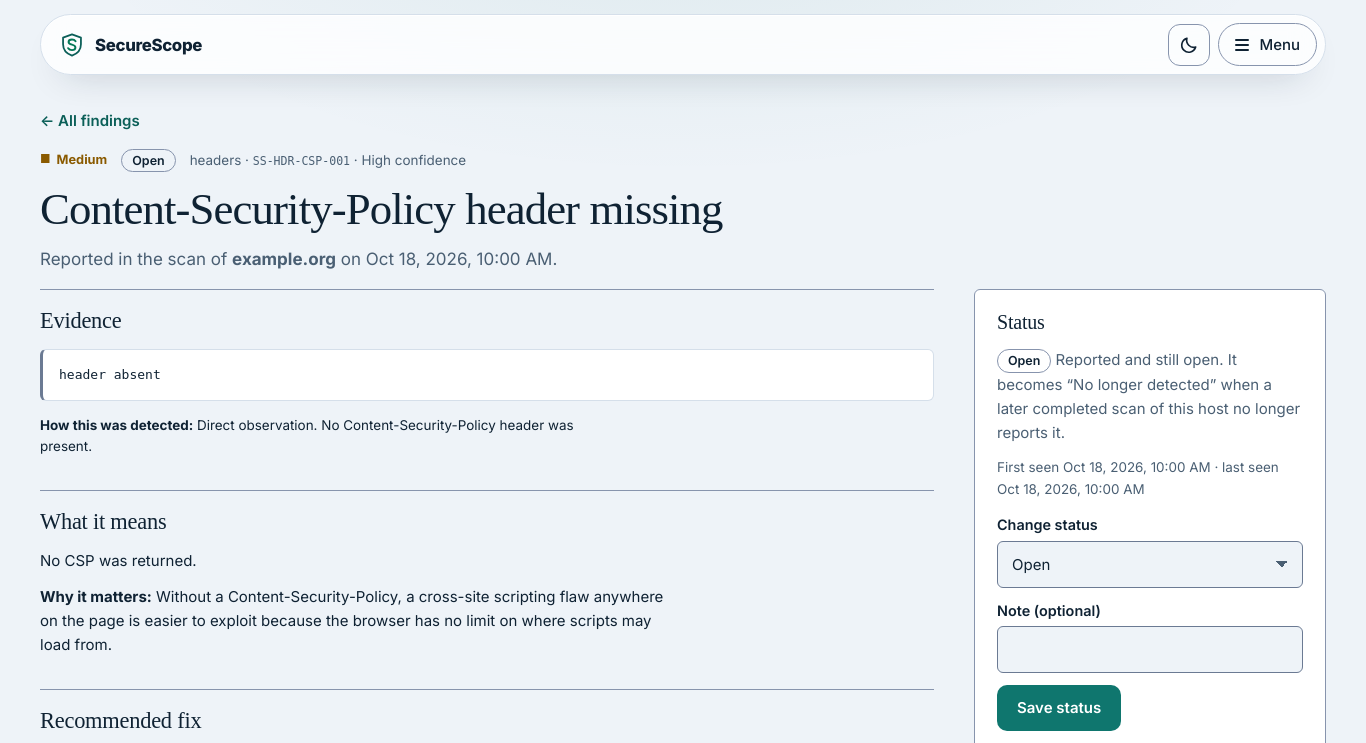
Scenario: Finding status › lets an analyst change the status and reloads the scan
The width and height of the screenshot is (1366, 743).
Select "Accepted risk" in the dropdown labelled "Change status" at {"x": 1150, "y": 564}, box [997,540,1303,588]
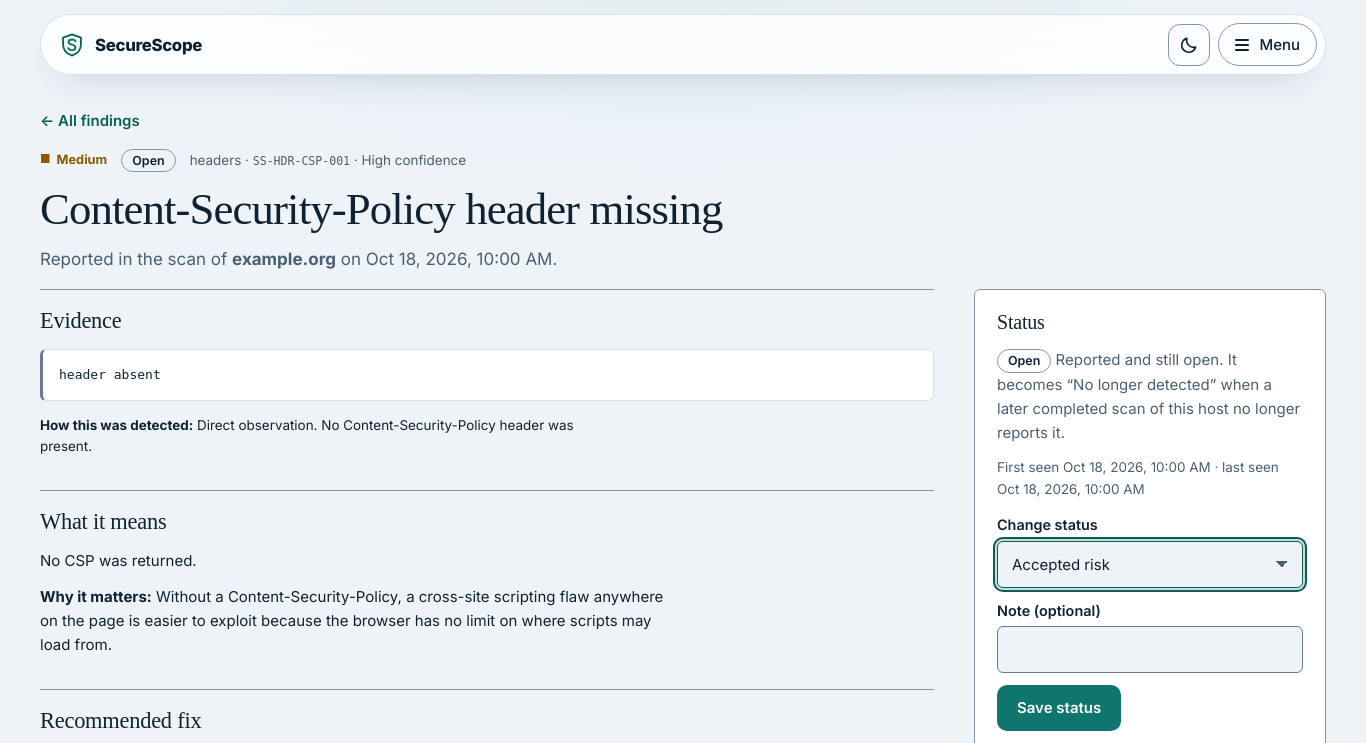
Type "static site" into the field labelled "Note (optional)" at {"x": 1150, "y": 650}, box [997,626,1303,673]
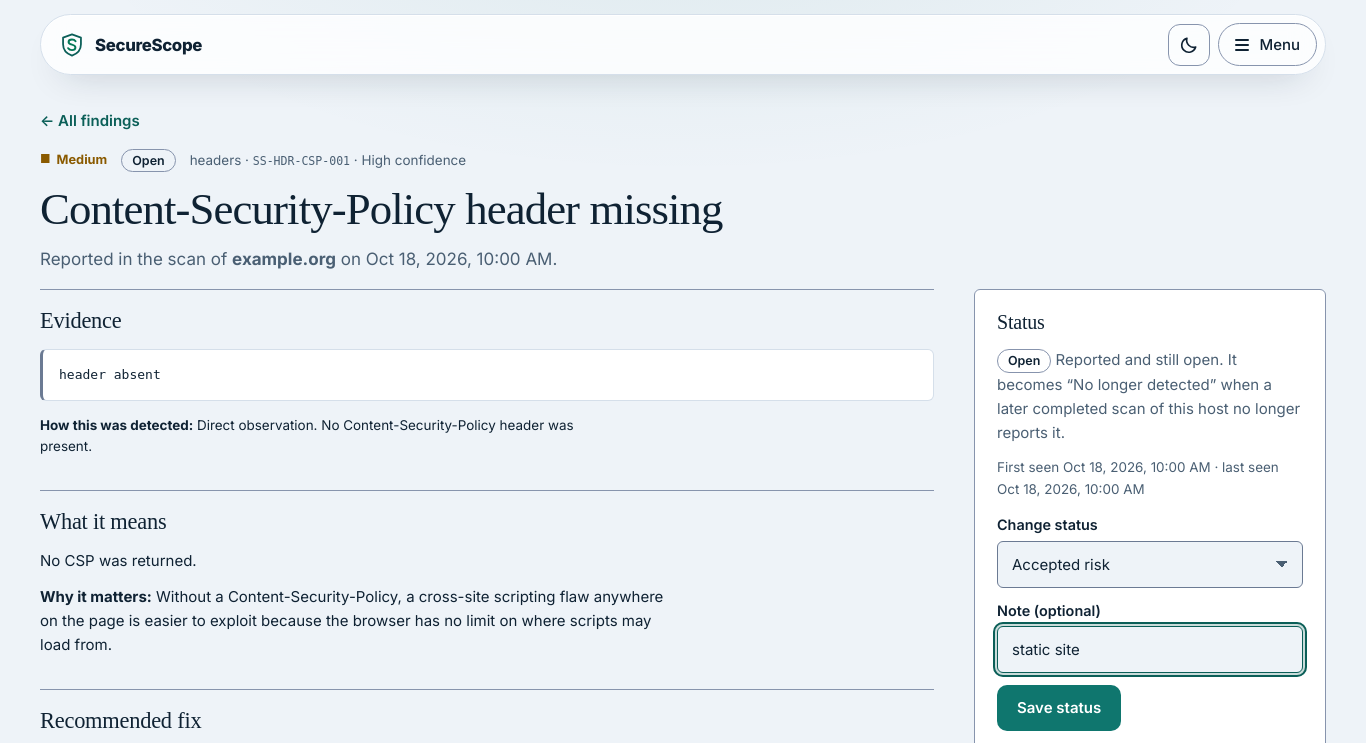
Click the button "Save status" at {"x": 1059, "y": 708}, box [997,685,1121,731]
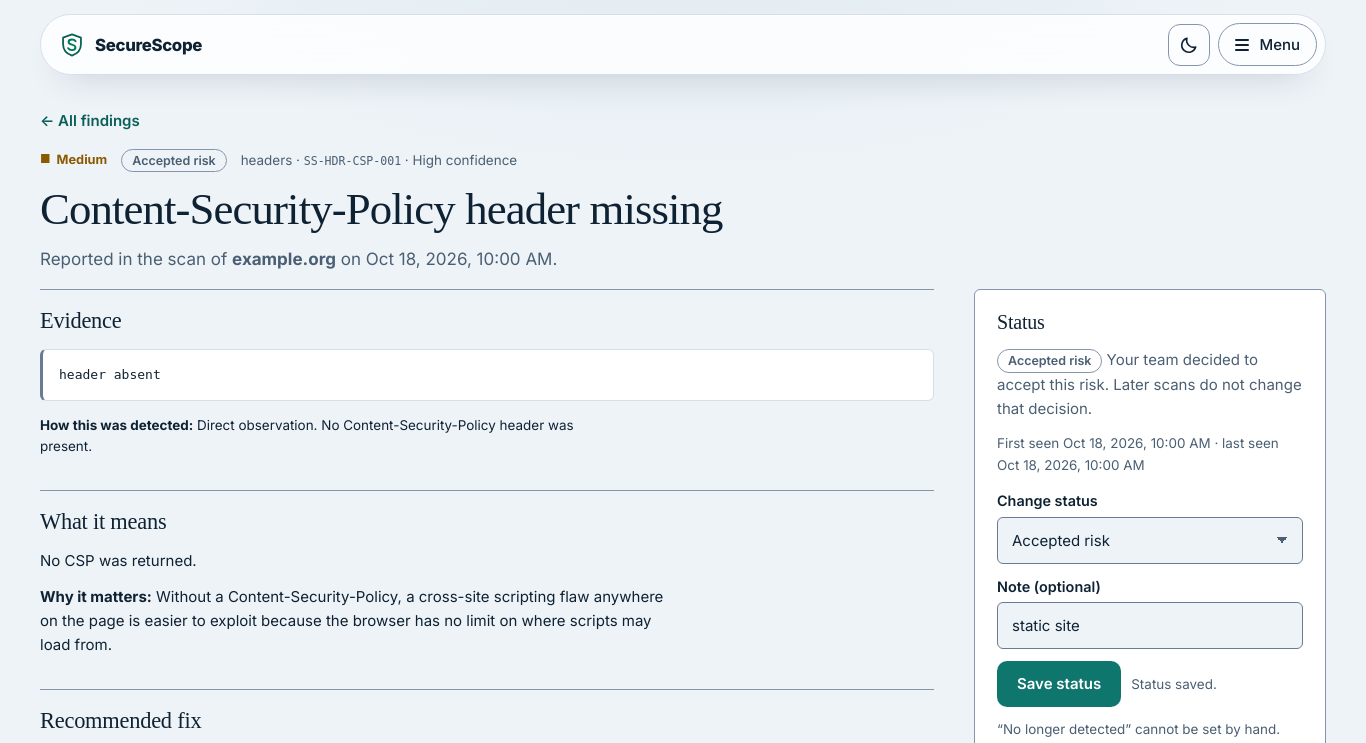
Now the message reads "Status saved.", box [1131,676,1217,692]
Now the text "Accepted risk" next to "Medium" is shown, box [132,152,216,168]
